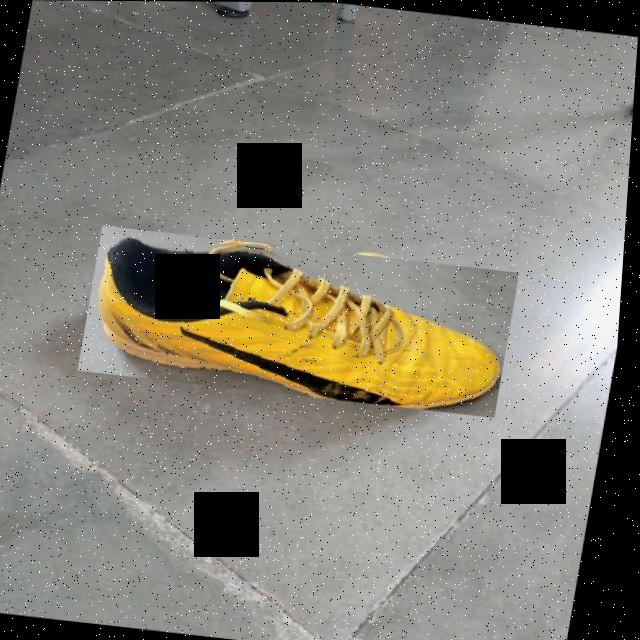shoe: (80, 225, 525, 417)
